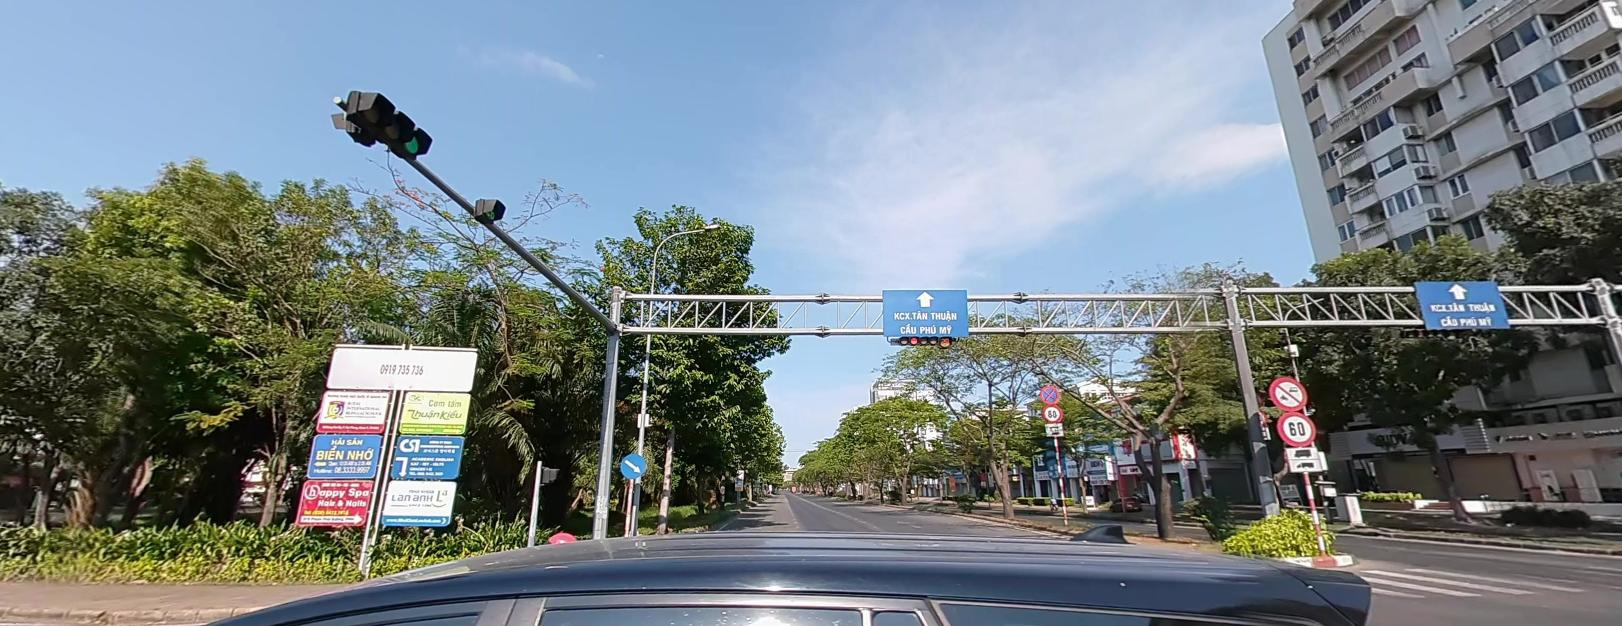Cam con lai: (1265, 372, 1308, 408)
Cam dung va do: (1039, 384, 1059, 403)
Gioi han toc do: (1275, 411, 1315, 443), (1041, 403, 1062, 421)
Hieu lenh: (618, 452, 645, 478)
